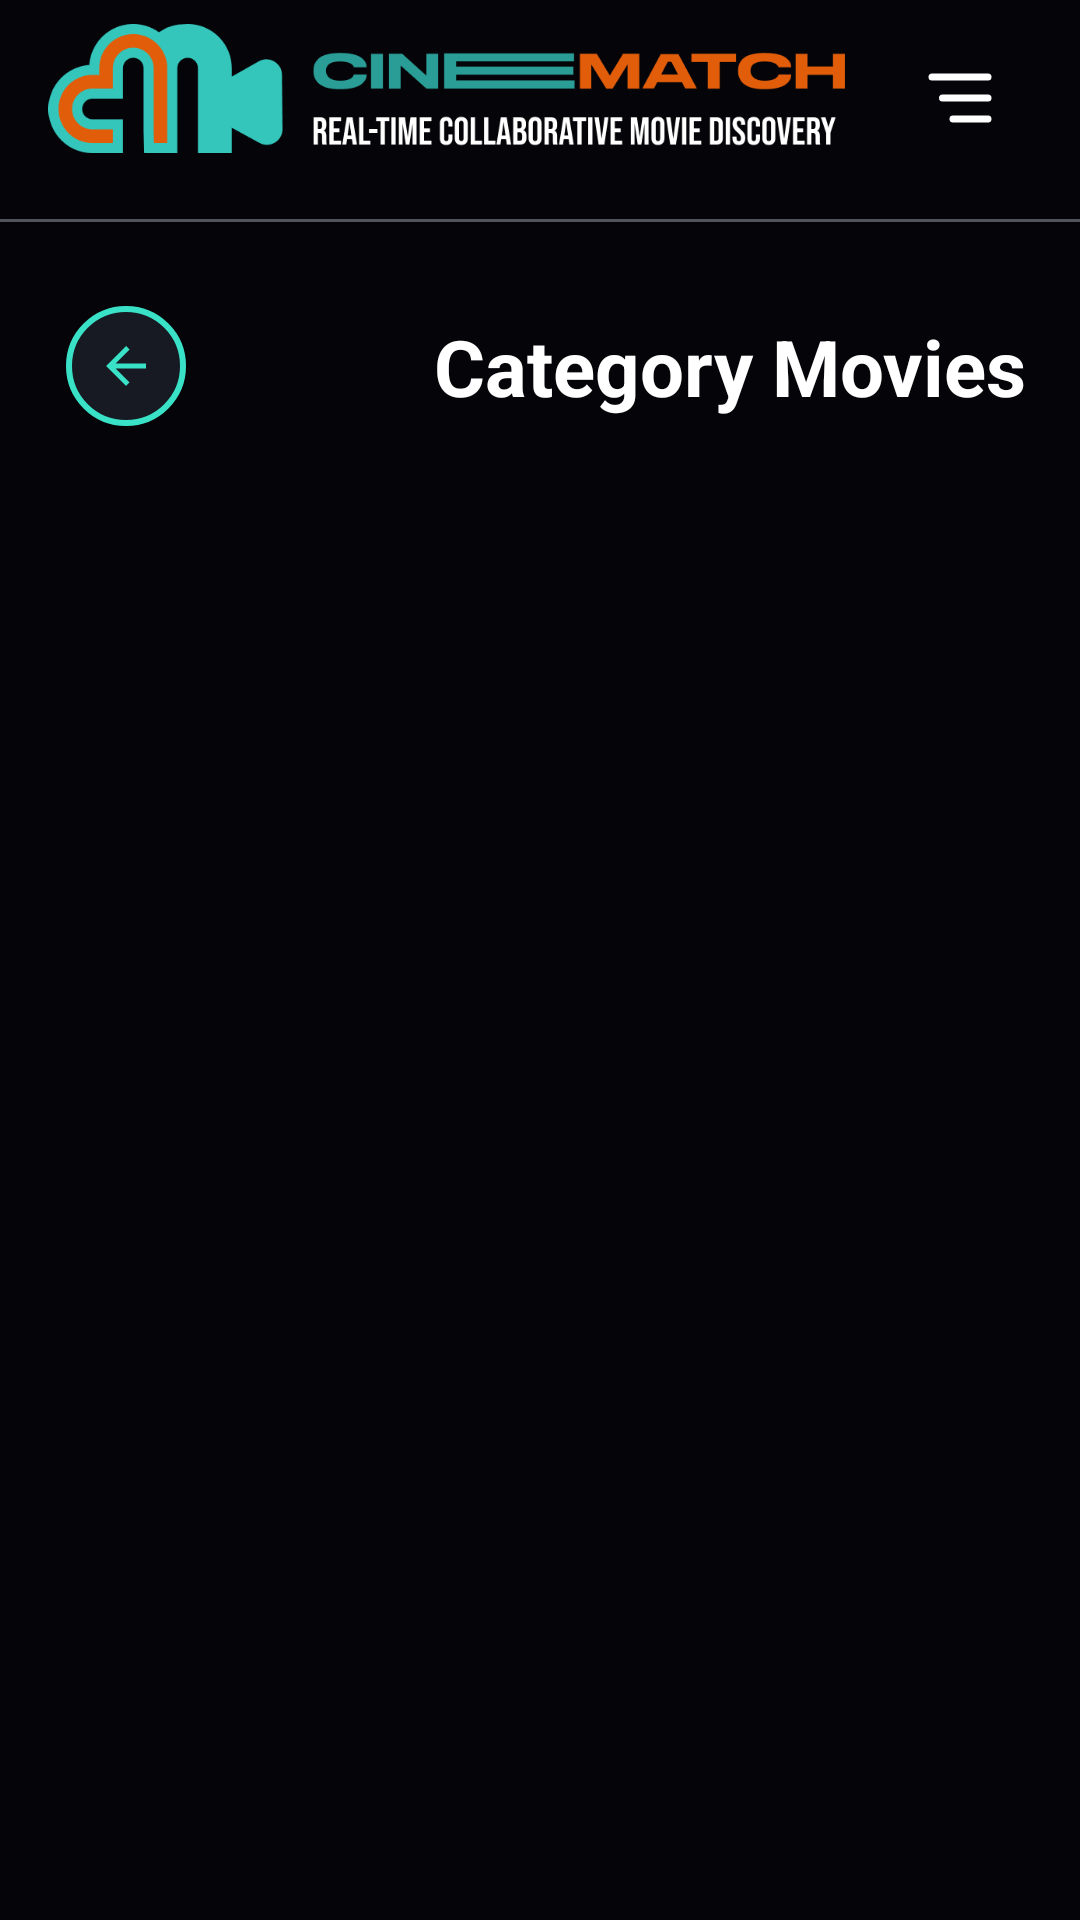

Icon click points for this 1080px x 1920px phone screenshot, format (x,y):
arrow back: (126,366)
